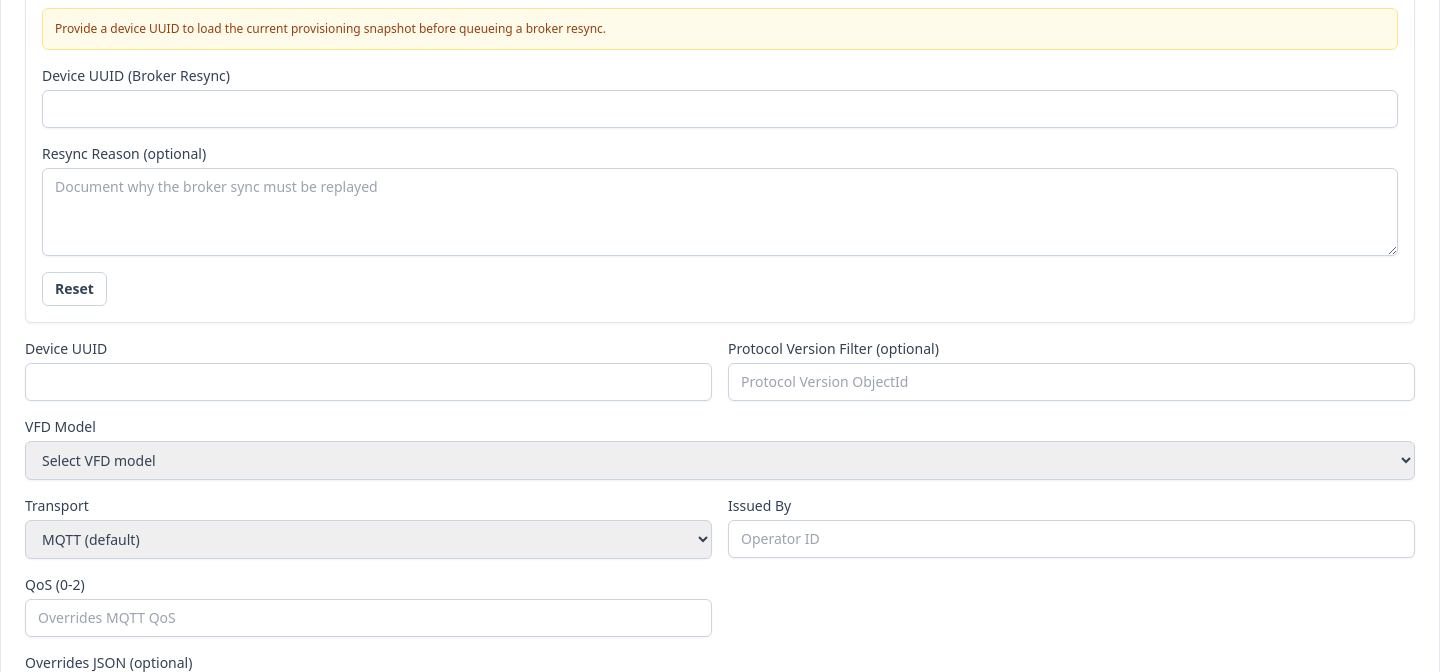
Test case: DeviceConfigurationPage credential rotation › shows active government credentials and protocol defaults when available
(page scrolled)
Type "device-uuid-1" into the field labelled "Device UUID" at (368, 382), box [25,363,712,401]
(page scrolled)
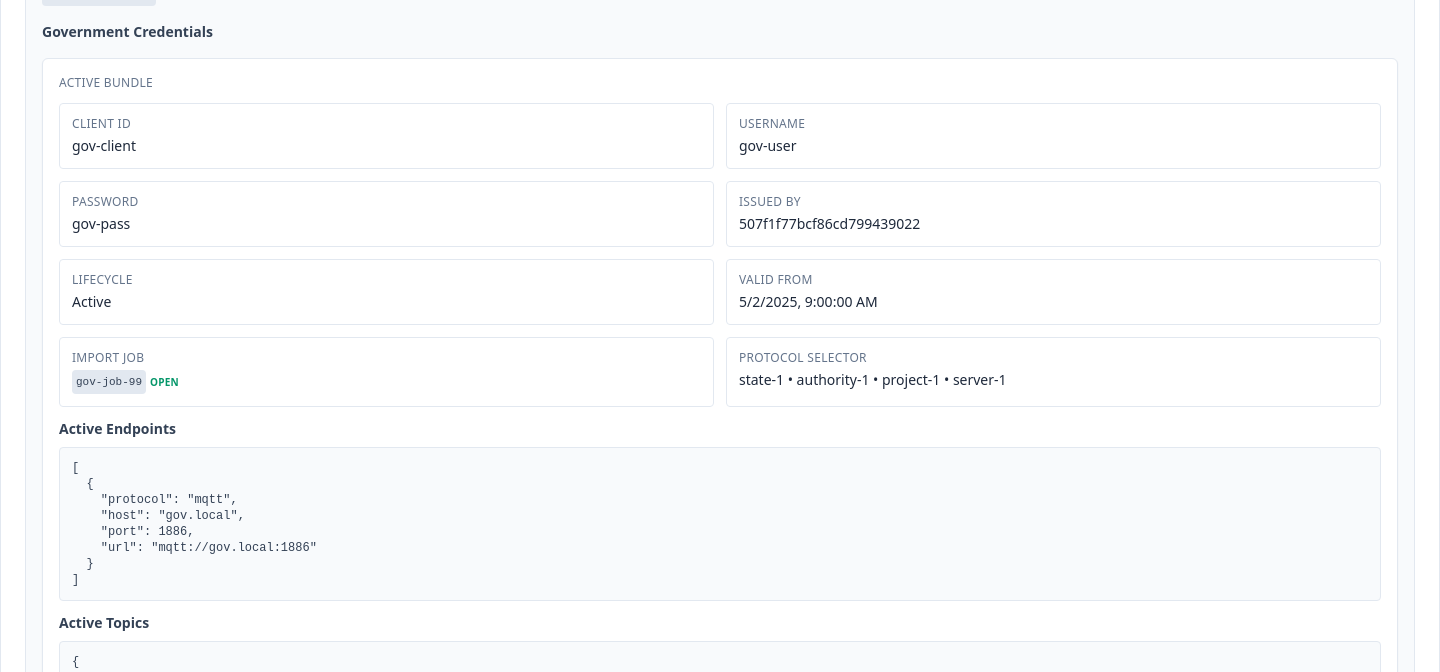
Check: the heading "Government Credentials" is shown, box [42,22,213,41]
Check: the text "Active Bundle" is shown, box [59,74,153,91]
Check: the text "gov-client" is shown, box [72,136,136,155]
